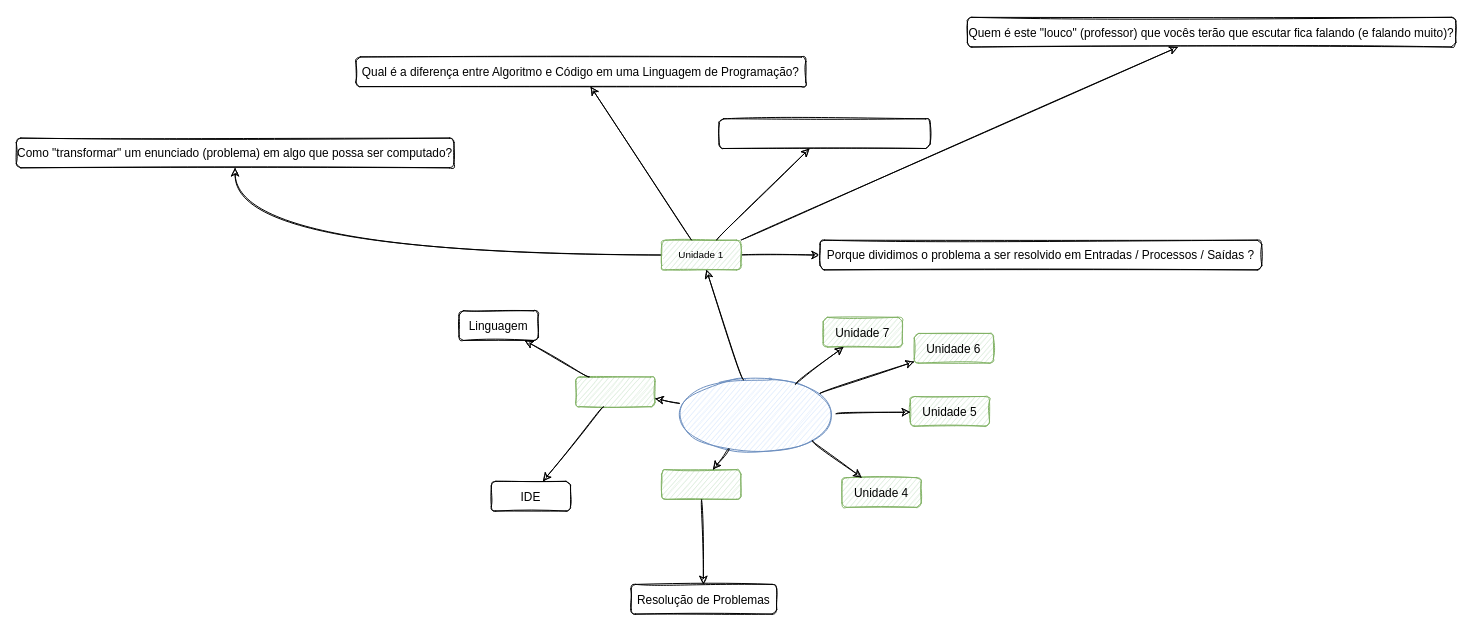
Some shapes in this 1473 by 632 pixel diagram are drawn without their labels. The shapes that lost their labels are listed below. From the top down, each one's centre as x and y in pixels, then its label:
At (824,133): "O que é a Introdução à Programação?".
At (615,391): "Unidade 3".
At (755,415): "Introdução à Programação".
At (701,484): "Unidade 2".
